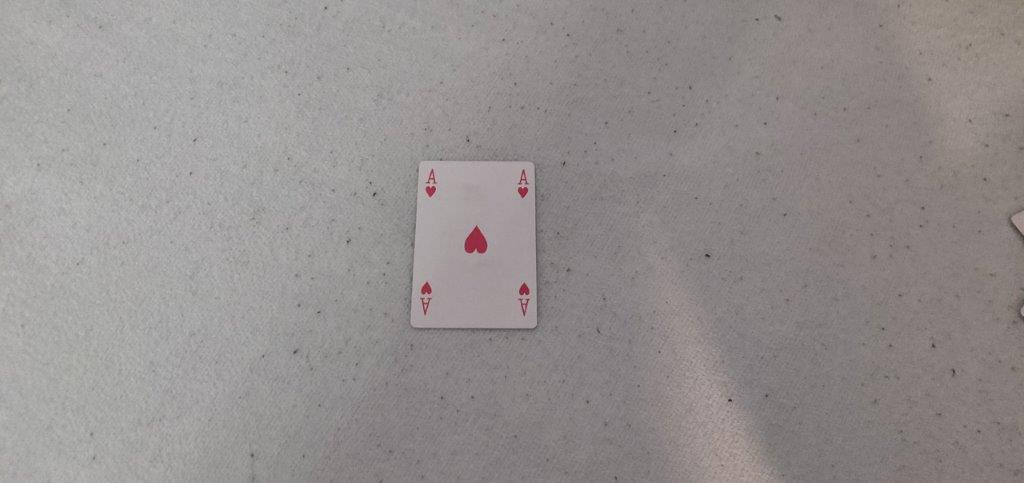AH: (512, 168, 532, 202), (422, 166, 441, 199)
